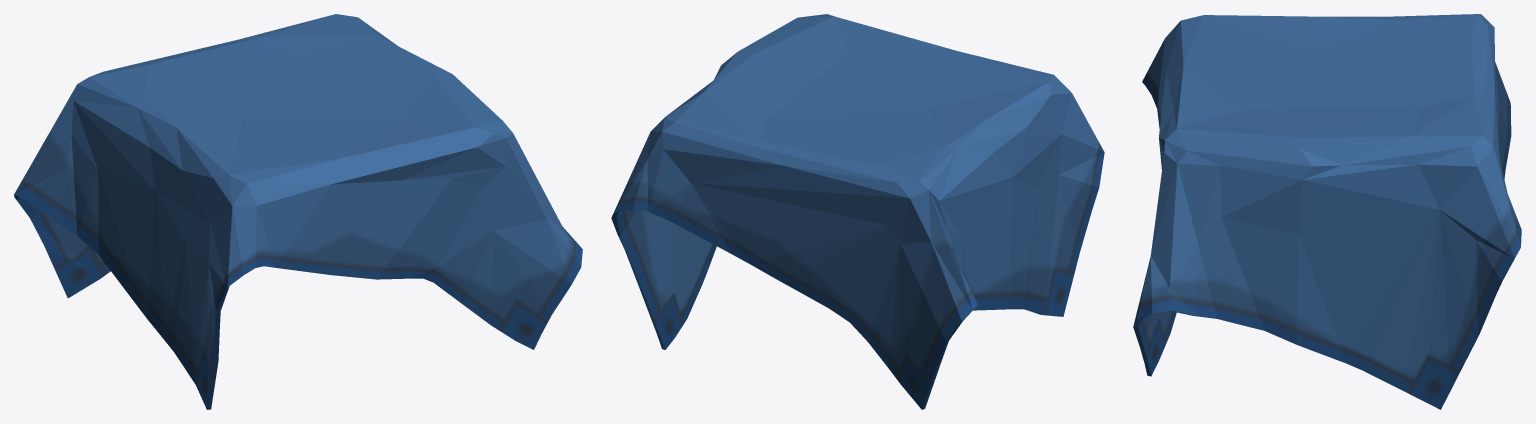
File: SM_Prop_Crate_Stack_02_Tarp.fbx
The picture shows the model from 3 angles, left to right: view 1: azimuth 30°, elevation 25°; view 2: azimuth 150°, elevation 25°; view 3: azimuth 270°, elevation 25°; orthographic projection. The views are drawn at different scales.
Visible parts, largest first — view 1: SM_Prop_Crate_Stack_02_Tarp; view 2: SM_Prop_Crate_Stack_02_Tarp; view 3: SM_Prop_Crate_Stack_02_Tarp.
Boxes of the visible parts, box(x1,y1,x2,y2) form: SM_Prop_Crate_Stack_02_Tarp: box(14, 14, 582, 409); SM_Prop_Crate_Stack_02_Tarp: box(611, 14, 1104, 409); SM_Prop_Crate_Stack_02_Tarp: box(1133, 14, 1521, 409).
Bounding box in the file's own units: 263 × 163 × 221.
